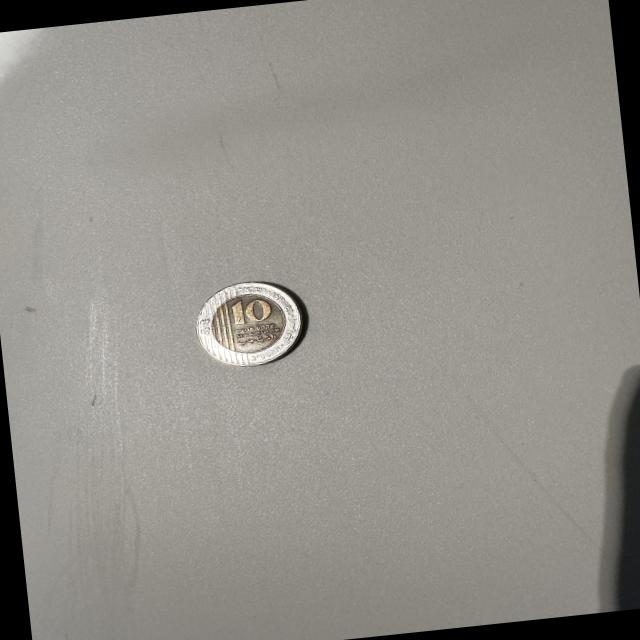10-shekel: (188, 274, 318, 371)
